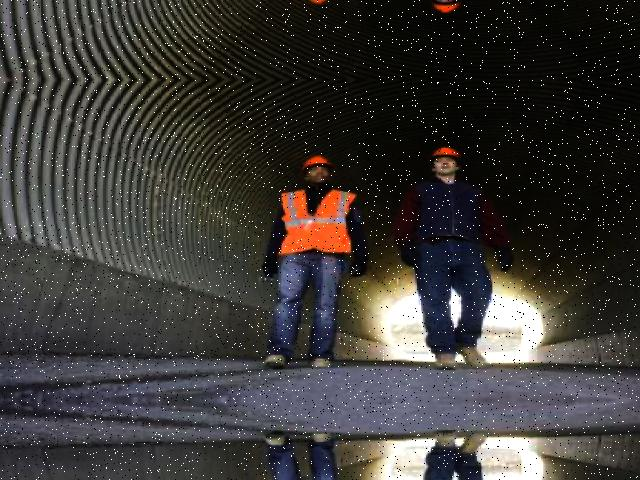Helmet: (294, 151, 332, 175), (423, 142, 462, 164)
